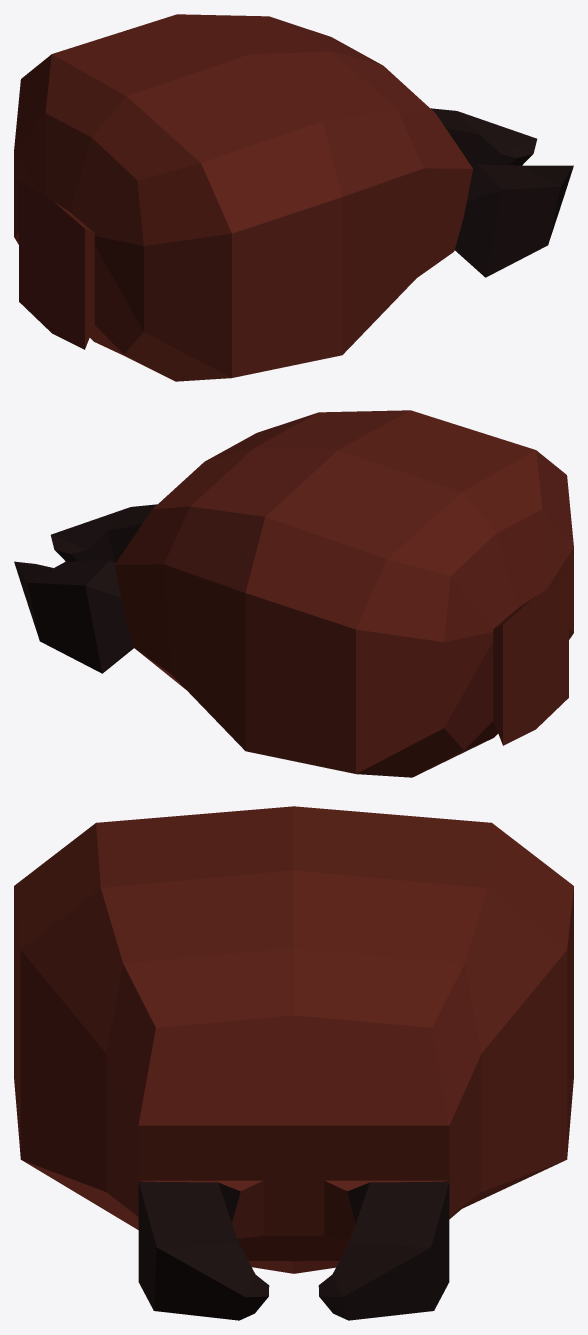
The model's file is Head_Major.fbx.
3 renders of one model, top to bottom at view 1: azimuth 30°, elevation 25°; view 2: azimuth 150°, elevation 25°; view 3: azimuth 270°, elevation 25°, orthographic. The views are drawn at different scales.
Visible parts, largest first — view 1: Head_Major; view 2: Head_Major; view 3: Head_Major.
Boxes of the visible parts, x1,y1,x2,y2 form: Head_Major: [14, 14, 573, 381]; Head_Major: [14, 410, 573, 777]; Head_Major: [14, 806, 573, 1320].
Bounding box in the file's own units: 522 × 720 × 393.
